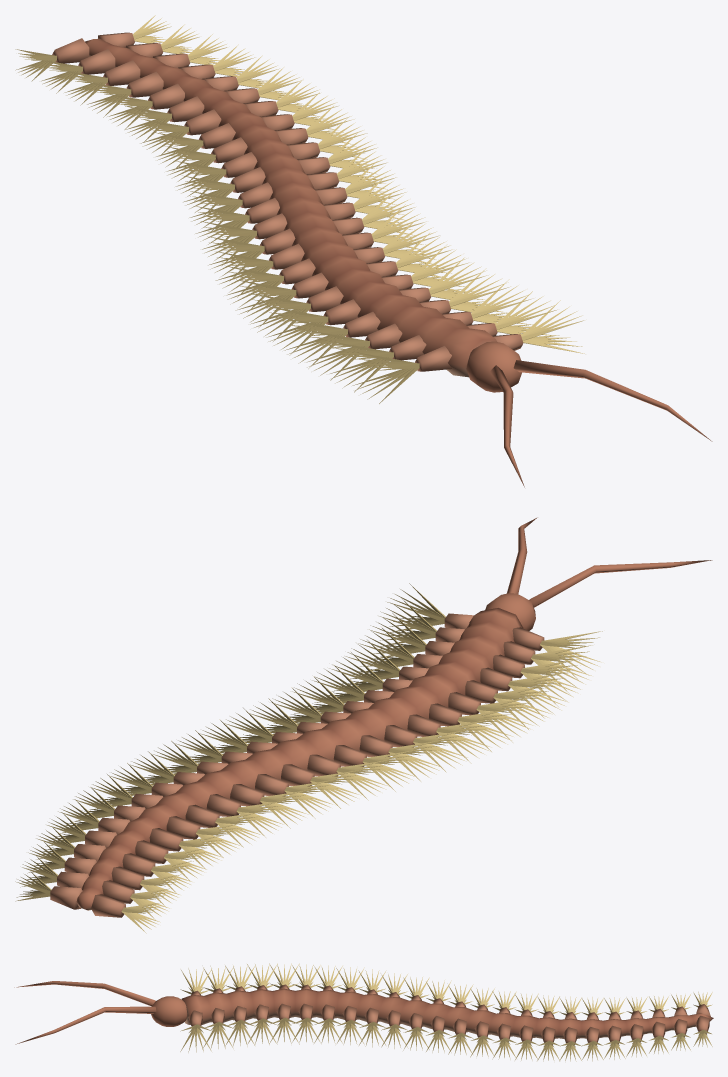
The model's file is Burgessochaeta.fbx.
The picture shows the model from 3 angles, top to bottom: view 1: azimuth 30°, elevation 25°; view 2: azimuth 150°, elevation 25°; view 3: azimuth 270°, elevation 25°; orthographic projection. The views are drawn at different scales.
Parts seen in each view (by area): view 1: Burgessochaeta; view 2: Burgessochaeta; view 3: Burgessochaeta.
Part boxes in pixels (x1,y1,x2,y2): Burgessochaeta: [15, 15, 712, 487]; Burgessochaeta: [15, 517, 712, 933]; Burgessochaeta: [14, 963, 713, 1061].
Bounding box in the file's own units: 0.3951 × 0.066 × 1.39.
